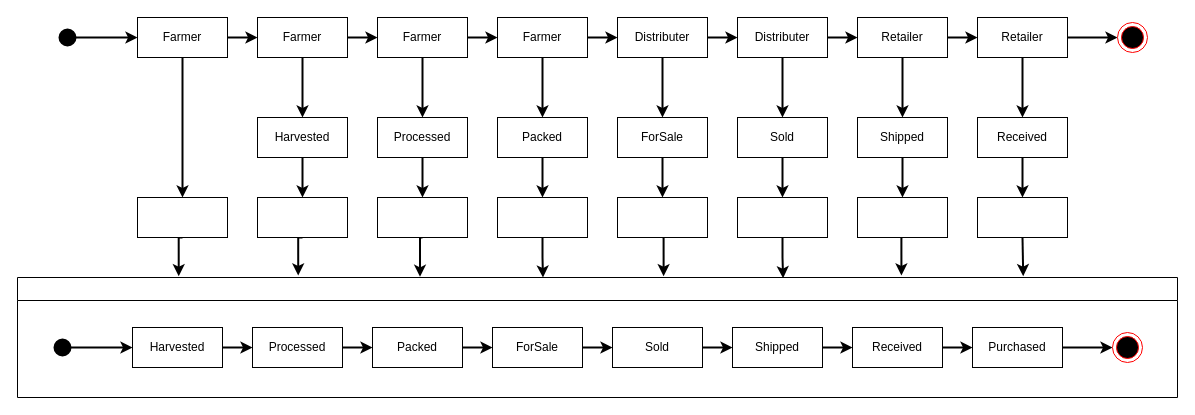
The diagram is 1195 pixels wide and 415 high, and some of its shapes have lost their labels. Here are the shapes that lost their labels. From the top down, the box of each, then its label:
(136, 196, 228, 238): harvestItem
(256, 196, 348, 238): processItem
(376, 196, 468, 238): packItem
(496, 196, 588, 238): sellItem
(616, 196, 708, 238): buyItem
(736, 196, 828, 238): shipItem
(856, 196, 948, 238): receiveItem
(976, 196, 1068, 238): purchaseItem
(16, 276, 1178, 398): Item State
